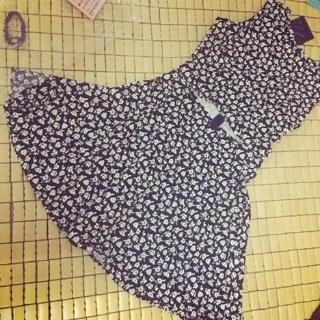vest: (2, 0, 319, 319)
